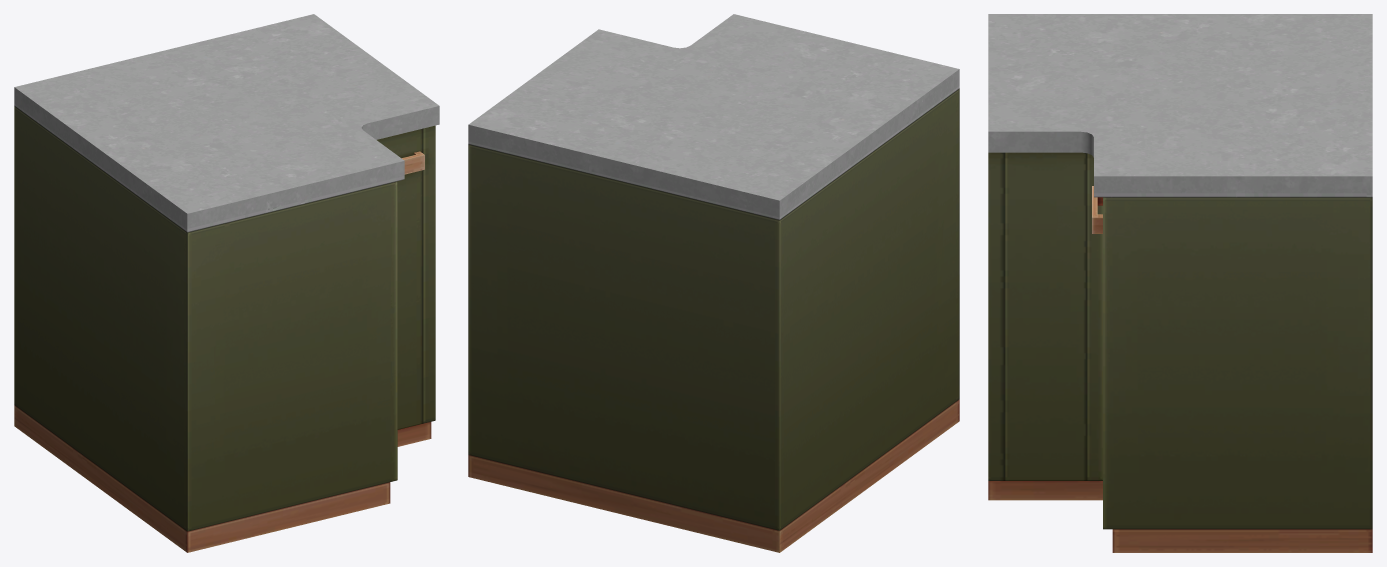
Rendered from inferiorEsquina.fbx.
The picture shows the model from 3 angles, left to right: view 1: azimuth 30°, elevation 25°; view 2: azimuth 150°, elevation 25°; view 3: azimuth 270°, elevation 25°; orthographic projection. The views are drawn at different scales.
Parts seen in each view (by area): view 1: s4studio_mesh_1; view 2: s4studio_mesh_1; view 3: s4studio_mesh_1.
Boxes of the visible parts, bbox=[...] form: s4studio_mesh_1: bbox=[14, 14, 439, 552]; s4studio_mesh_1: bbox=[468, 14, 959, 552]; s4studio_mesh_1: bbox=[988, 14, 1372, 552].
Bounding box in the file's own units: 92.5 × 100 × 92.5.
Materials: 2 (2 with a texture image).
